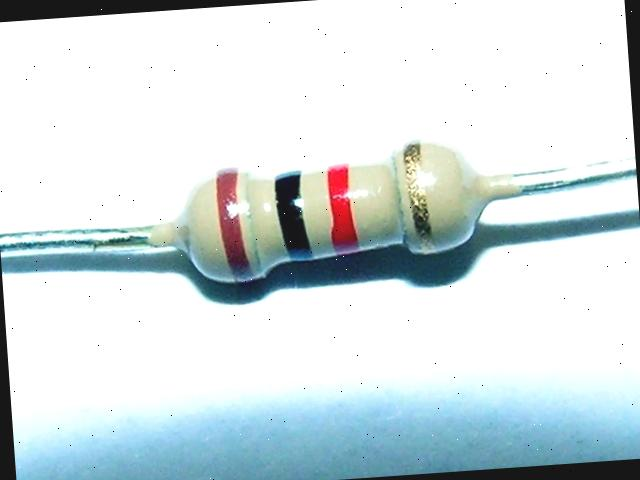black: (274, 170, 315, 261)
brown: (217, 166, 255, 283)
gold: (403, 139, 436, 255)
red: (327, 163, 360, 254)
resistor: (145, 111, 525, 310)
